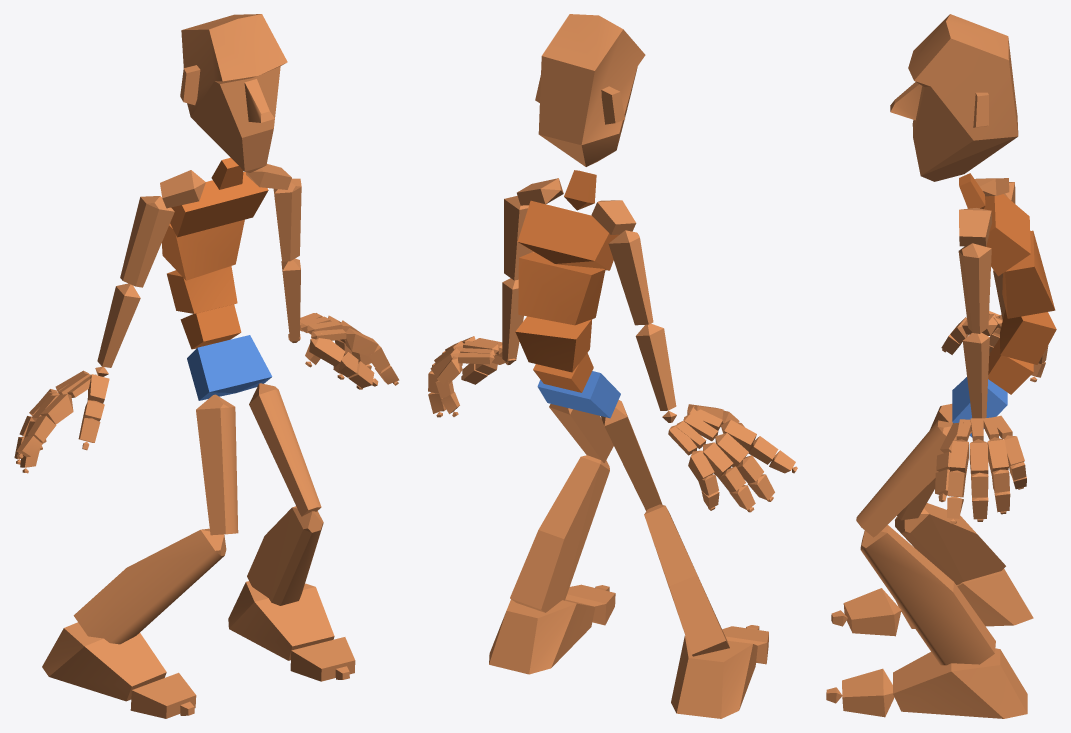
The picture shows the model from 3 angles, left to right: view 1: azimuth 30°, elevation 25°; view 2: azimuth 150°, elevation 25°; view 3: azimuth 270°, elevation 25°; orthographic projection. The views are drawn at different scales.
Parts seen in each view (by area): view 1: BOPED_Head, BOPED_R_leg, BOPED_R_foot, BOPED_R_foot01, BOPED_L_leg, BOPED_R_legup, BOPED_L_legup, Bone01, Bone05, Bone04, BOPED_R_arm_upper, Bone03 (+10 smaller); view 2: BOPED_Head, BOPED_L_leg, BOPED_R_foot01, BOPED_R_foot, BOPED_R_leg, Bone04, Bone05, Bone03, BOPED_R_arm_upper, BOPED_R_legup, Bone01, BOPED_R_arm_fore (+11 smaller); view 3: BOPED_Head, BOPED_L_leg, BOPED_R_foot01, BOPED_R_leg, BOPED_L_legup, BOPED_R_foot, Bone05, Bone04, BOPED_L_arm_upper, Bone03, BOPED_R_foot_toe01, BOPED_R_foot_toe04 (+14 smaller).
Part boxes in pixels (left/top/right/bottom): BOPED_Head: left=180, top=14, right=287, bottom=172; BOPED_R_leg: left=73, top=528, right=226, bottom=644; BOPED_R_foot: left=42, top=622, right=166, bottom=701; BOPED_R_foot01: left=228, top=581, right=334, bottom=660; BOPED_L_leg: left=247, top=506, right=323, bottom=605; BOPED_R_legup: left=196, top=394, right=238, bottom=535; BOPED_L_legup: left=249, top=383, right=321, bottom=516; Bone01: left=187, top=335, right=272, bottom=400; Bone05: left=170, top=172, right=268, bottom=237; Bone04: left=162, top=219, right=244, bottom=280; BOPED_R_arm_upper: left=120, top=196, right=174, bottom=287; Bone03: left=167, top=266, right=237, bottom=313; BOPED_Head: left=535, top=14, right=645, bottom=166; BOPED_L_leg: left=510, top=455, right=609, bottom=612; BOPED_R_foot01: left=489, top=599, right=595, bottom=674; BOPED_R_foot: left=671, top=636, right=757, bottom=718; BOPED_R_leg: left=644, top=504, right=729, bottom=656; Bone04: left=518, top=252, right=605, bottom=325; Bone05: left=517, top=200, right=619, bottom=270; Bone03: left=515, top=316, right=592, bottom=372; BOPED_R_arm_upper: left=608, top=230, right=653, bottom=325; BOPED_R_legup: left=600, top=400, right=662, bottom=510; Bone01: left=537, top=371, right=620, bottom=418; BOPED_R_arm_fore: left=635, top=323, right=676, bottom=410; BOPED_Head: left=890, top=14, right=1018, bottom=181; BOPED_L_leg: left=860, top=525, right=995, bottom=665; BOPED_R_foot01: left=893, top=648, right=1027, bottom=718; BOPED_R_leg: left=895, top=503, right=1005, bottom=584; BOPED_L_legup: left=856, top=420, right=952, bottom=537; BOPED_R_foot: left=896, top=569, right=1033, bottom=628; Bone05: left=984, top=194, right=1030, bottom=276; Bone04: left=1002, top=230, right=1055, bottom=318; BOPED_L_arm_upper: left=958, top=243, right=991, bottom=333; Bone03: left=1000, top=309, right=1056, bottom=364; BOPED_R_foot_toe01: left=843, top=588, right=901, bottom=636; BOPED_R_foot_toe04: left=842, top=668, right=894, bottom=717.
Size of the model in its own units: 109 by 178 by 56.5.
